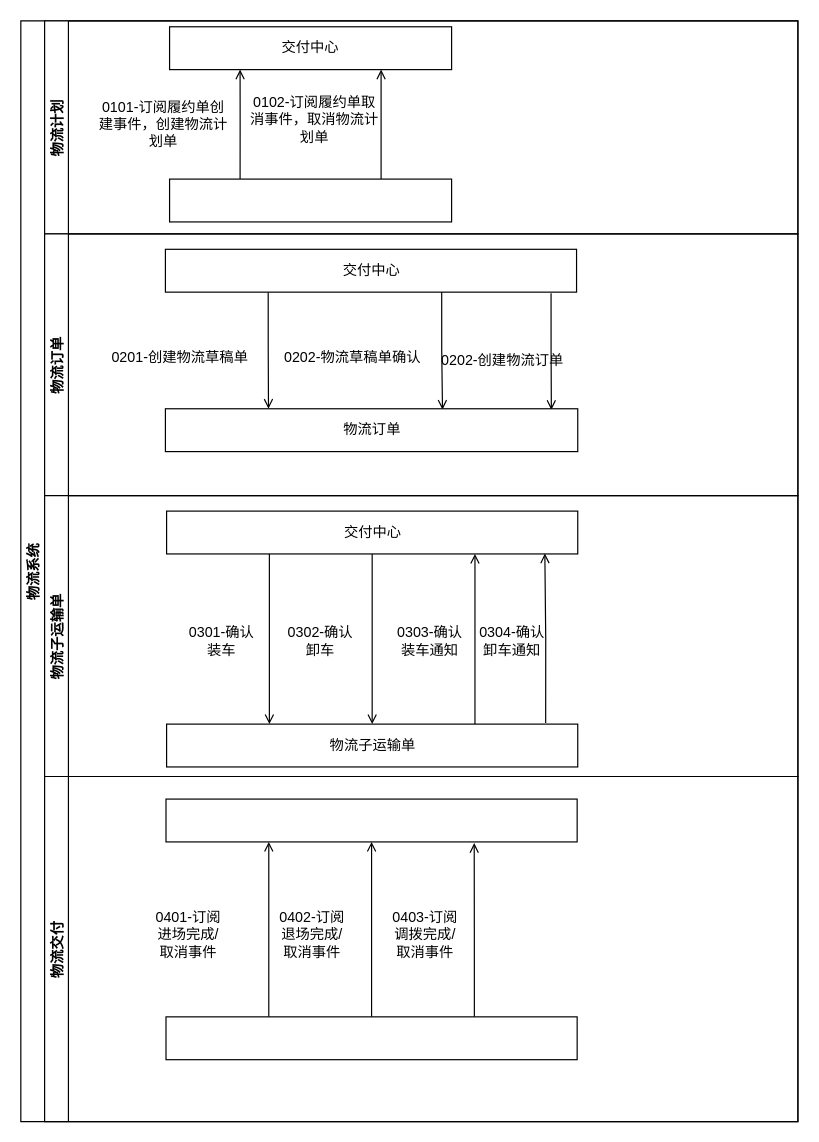
Image size: 819x1142. Some labels were removed from this diagram. The shapes that lost their labels are listed below. From the top down, each one's centre as x and y in pixels, then its label:
At point 310,200: "物流计划单".
At point 371,820: "服务".
At point 371,1038: "（物流交付）".
